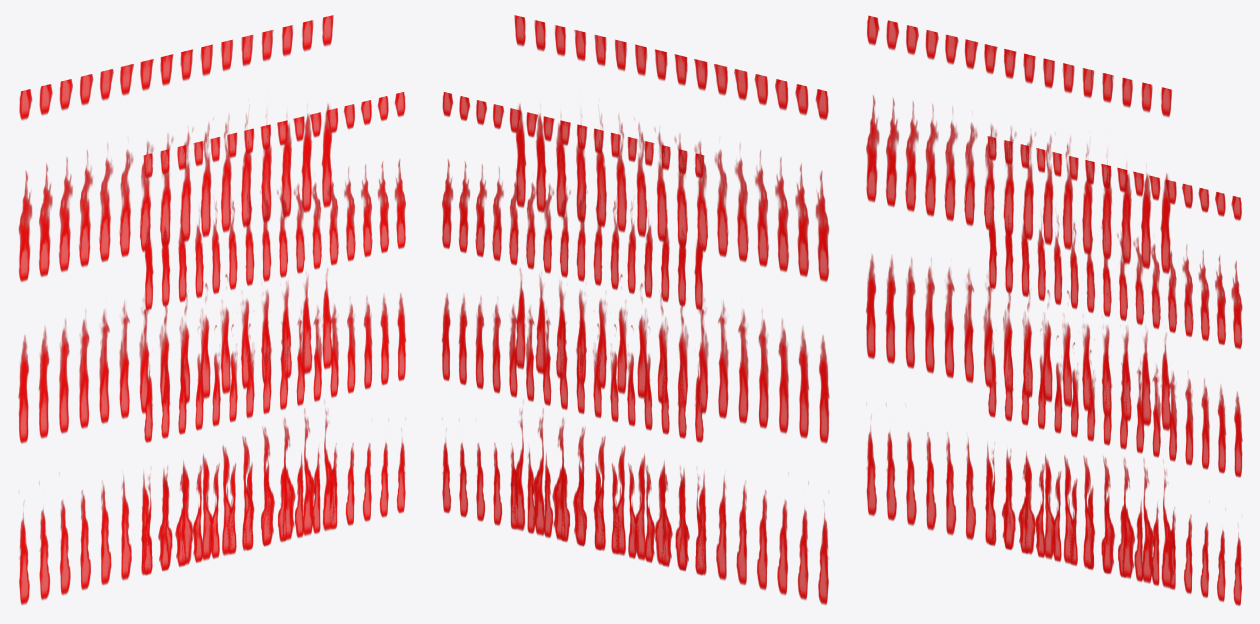
The model's file is mm9_deco_pentafire_red.glb.
3 renders of one model, left to right at view 1: azimuth 30°, elevation 25°; view 2: azimuth 150°, elevation 25°; view 3: azimuth 330°, elevation 25°, orthographic. The views are drawn at different scales.
Parts seen in each view (by area): view 1: Pentafire_red; view 2: Pentafire_red; view 3: Pentafire_red.
Boxes of the visible parts, x1,y1,x2,y2 form: Pentafire_red: [18, 15, 405, 604]; Pentafire_red: [442, 15, 829, 604]; Pentafire_red: [866, 15, 1242, 605].
Size of the model in its own units: 0.44 by 0.55 by 0.
1 material, 1 textured.
